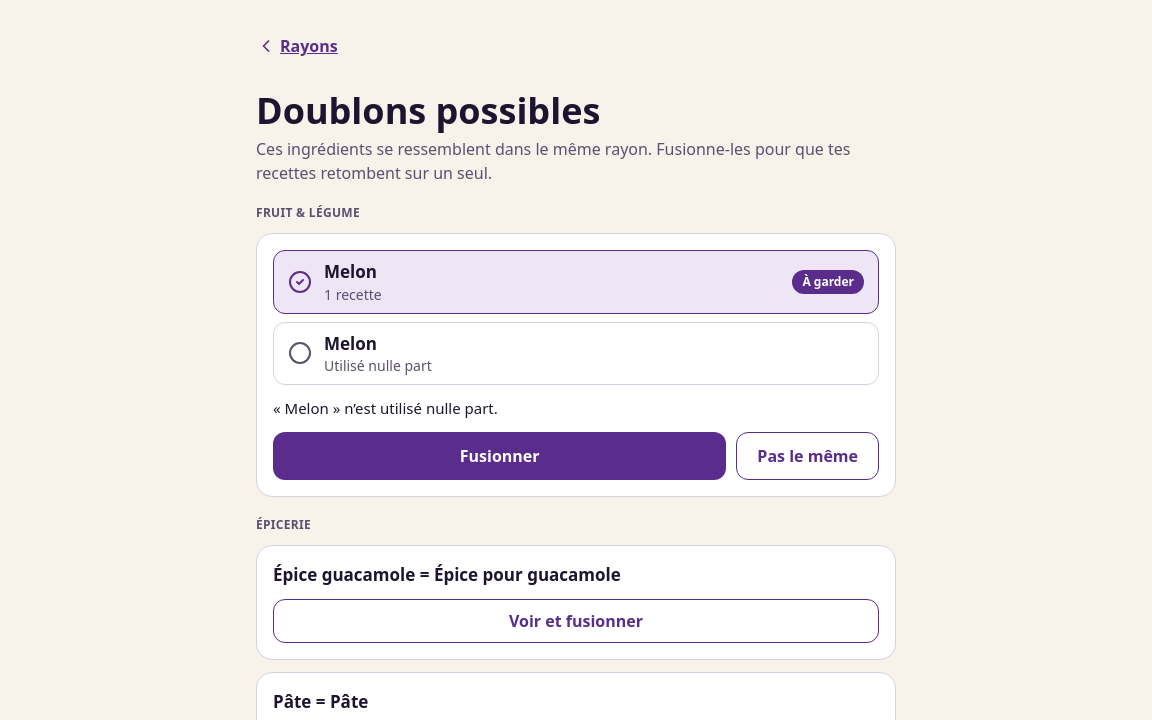
Test: DuplicatesView › « Fusionner » › demande l’aperçu à l’ouverture de la confirmation, puis fusionne l’absorbé dans le gardé
Click the button "Fusionner": (500, 456) [273,432,726,480]
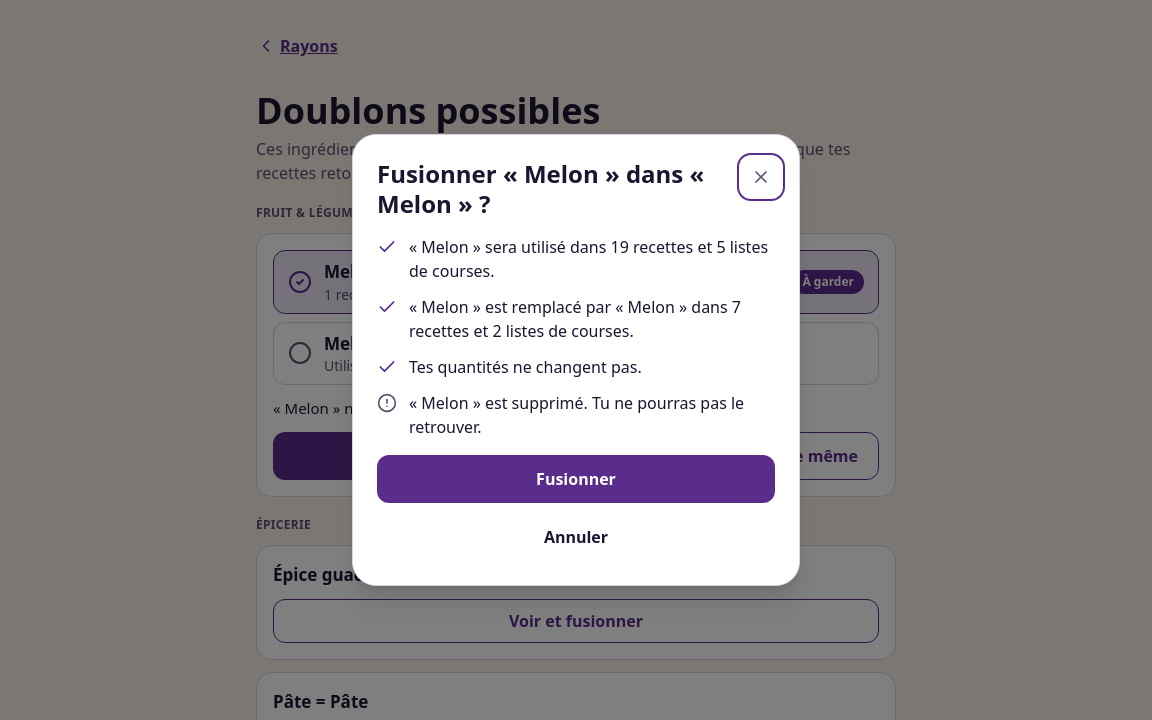
Result: the text "Tes quantités" is shown at [409,356,642,378]
Result: the text "Fusionner « Melon » dans « Melon » ?" is shown at [377,159,723,219]
Click the button "Fusionner": (576, 479) [377,455,775,503]
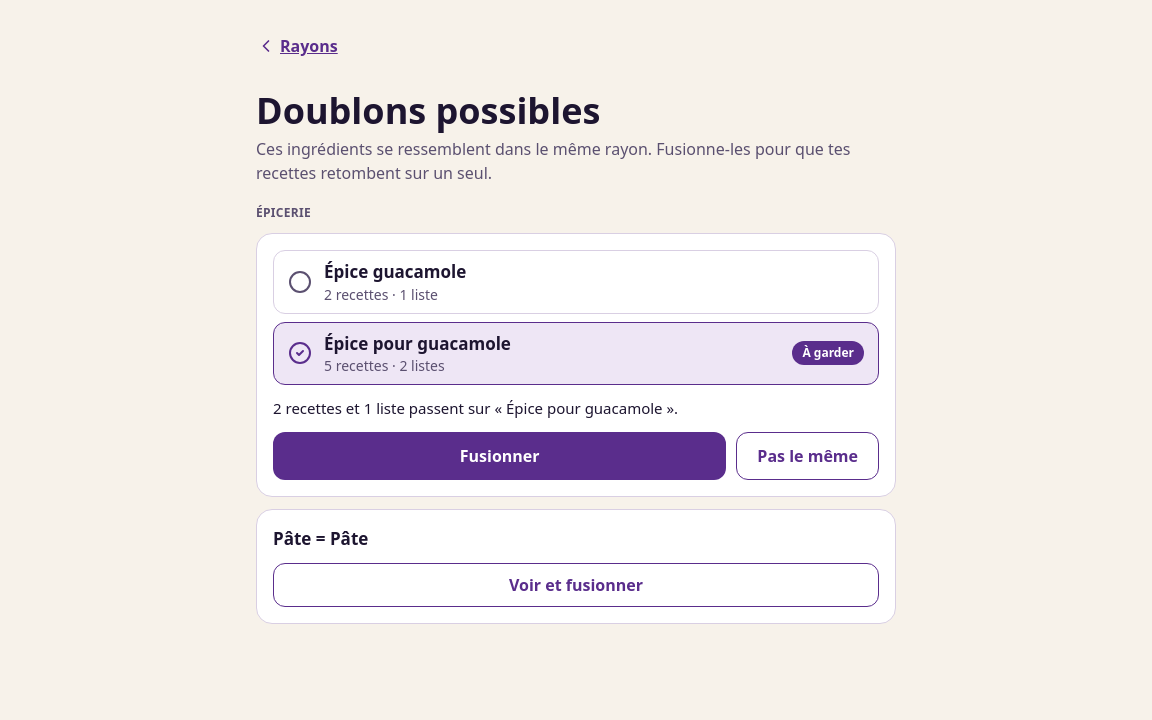
Result: the number of list items with test id "duplicate-card" is 2 at [256,233,896,496]; [256,508,896,624]
